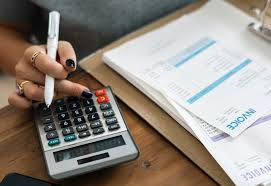Calculator: (32, 85, 141, 179)
